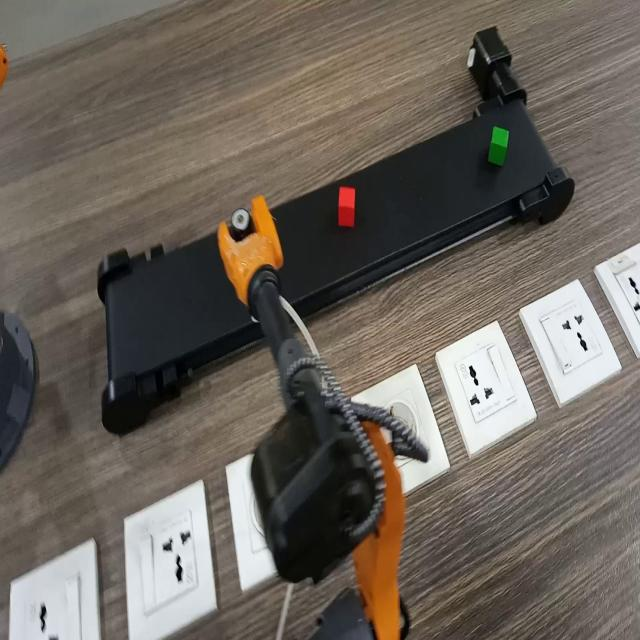cube: (335, 182, 362, 234), (484, 123, 514, 168)
